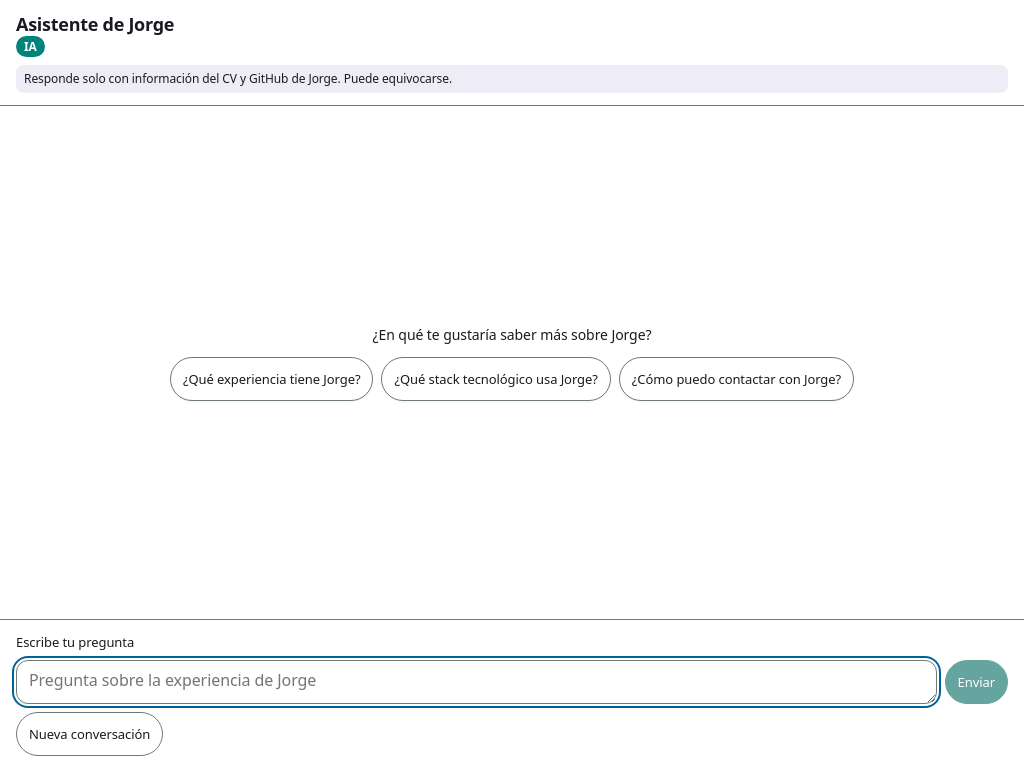
Test: Chatbox — indicador de escritura (RF-F44) › shows three decorative dots while the assistant writes
Type "¿Qué usa Jorge?" into the text box labelled "Escribe tu pregunta" at (476, 682), box [16,660,937,704]
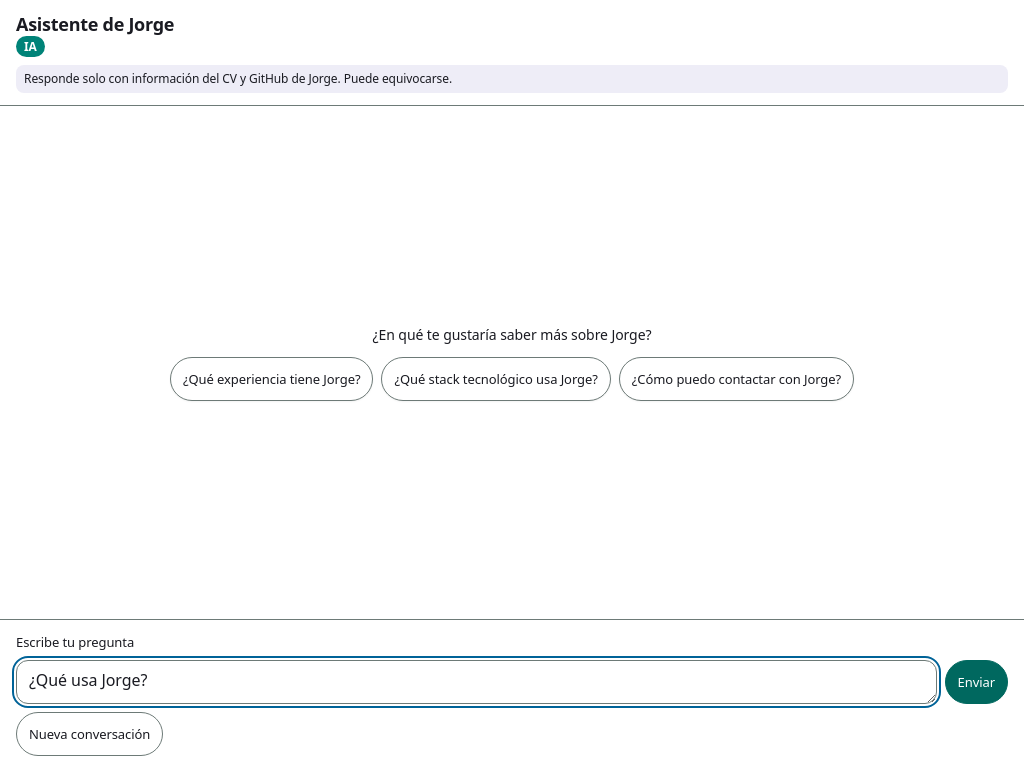
Click the button with aria-label "Enviar pregunta" at (976, 682), box [945,660,1008,704]
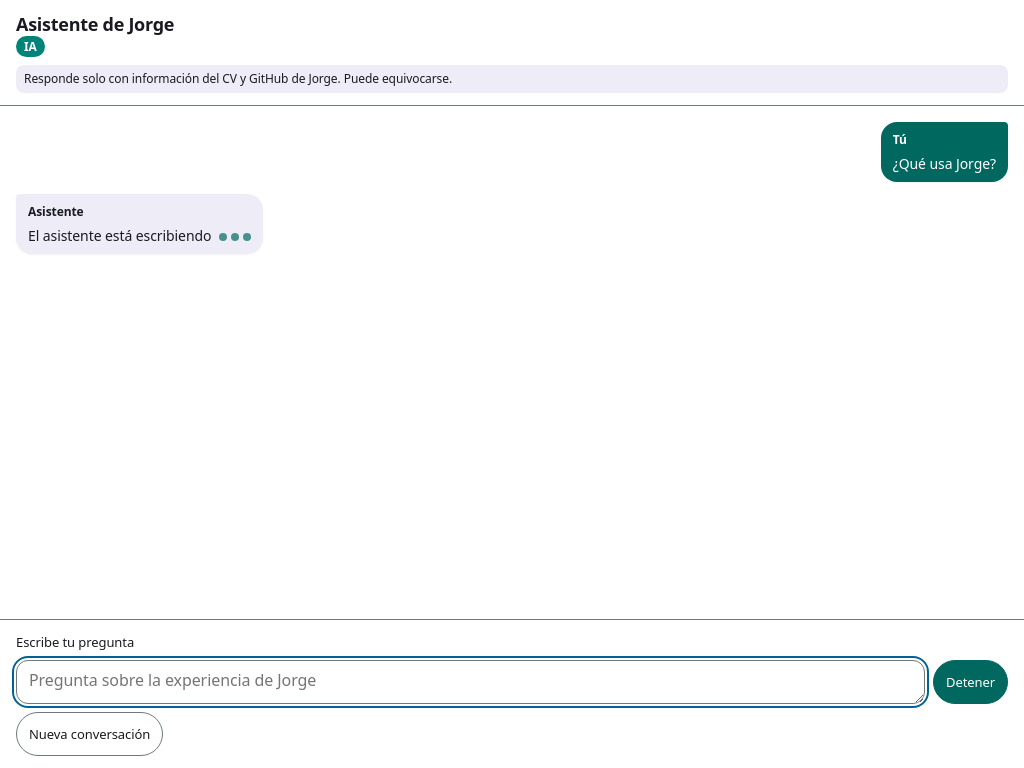
Now the element with class "chatbox__typing" is shown, box [219,233,251,241]
Now the number of elements with class "chatbox__typing-dot" is 3, box [219,233,227,241]; [231,233,239,241]; [243,233,251,241]
